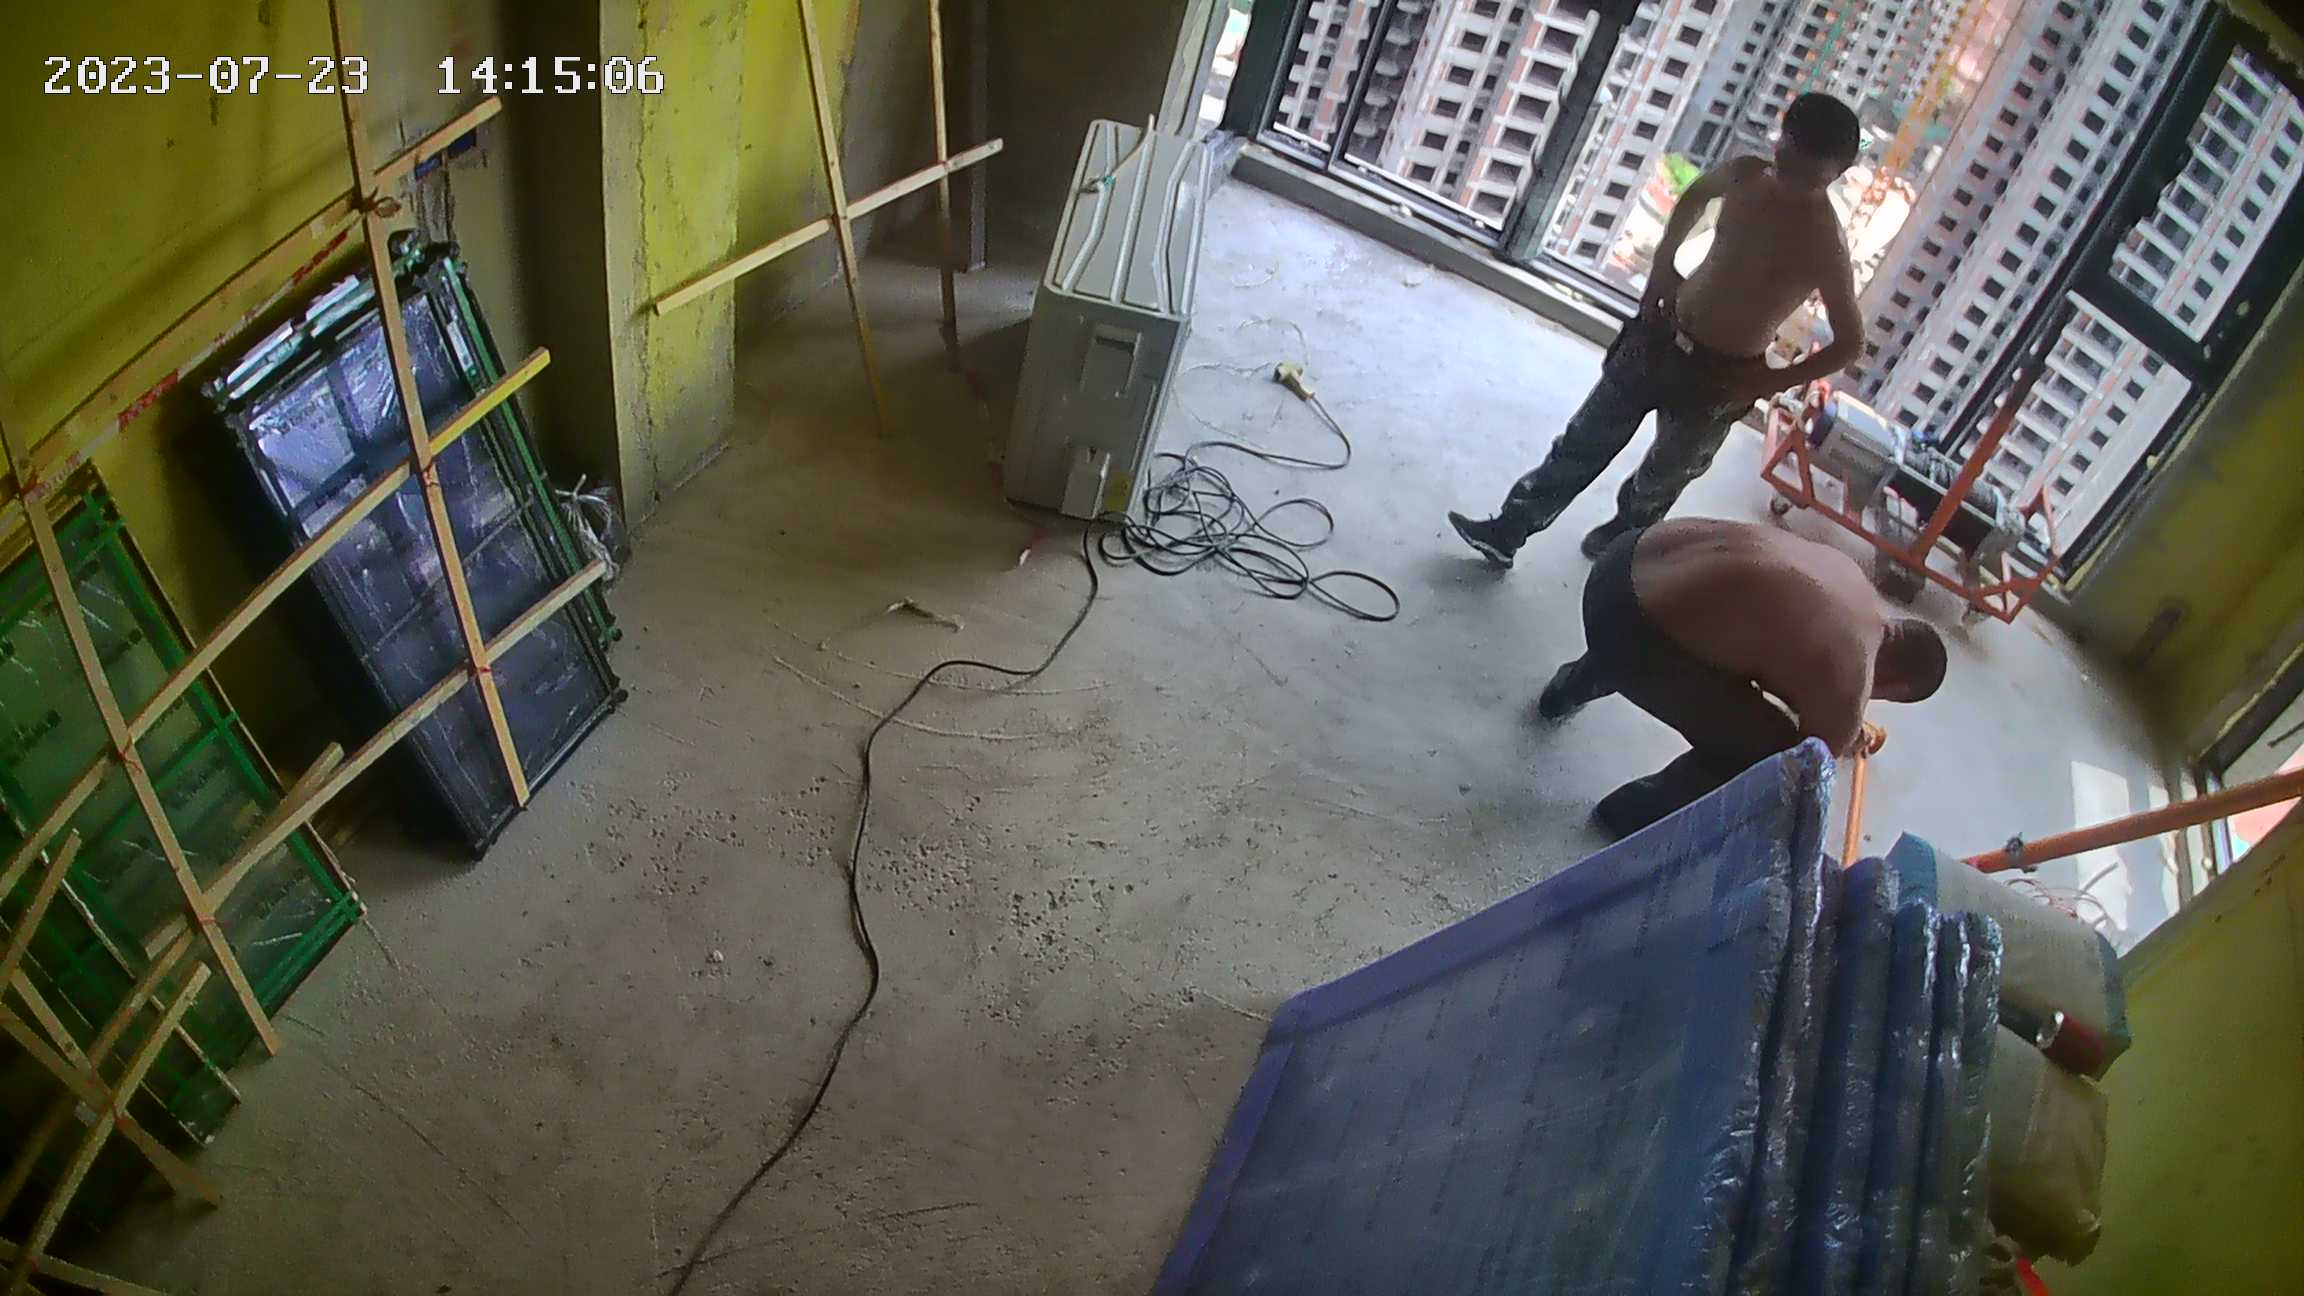people: (1454, 81, 1867, 562), (1549, 521, 1954, 844)
window: (1221, 4, 2304, 580)
